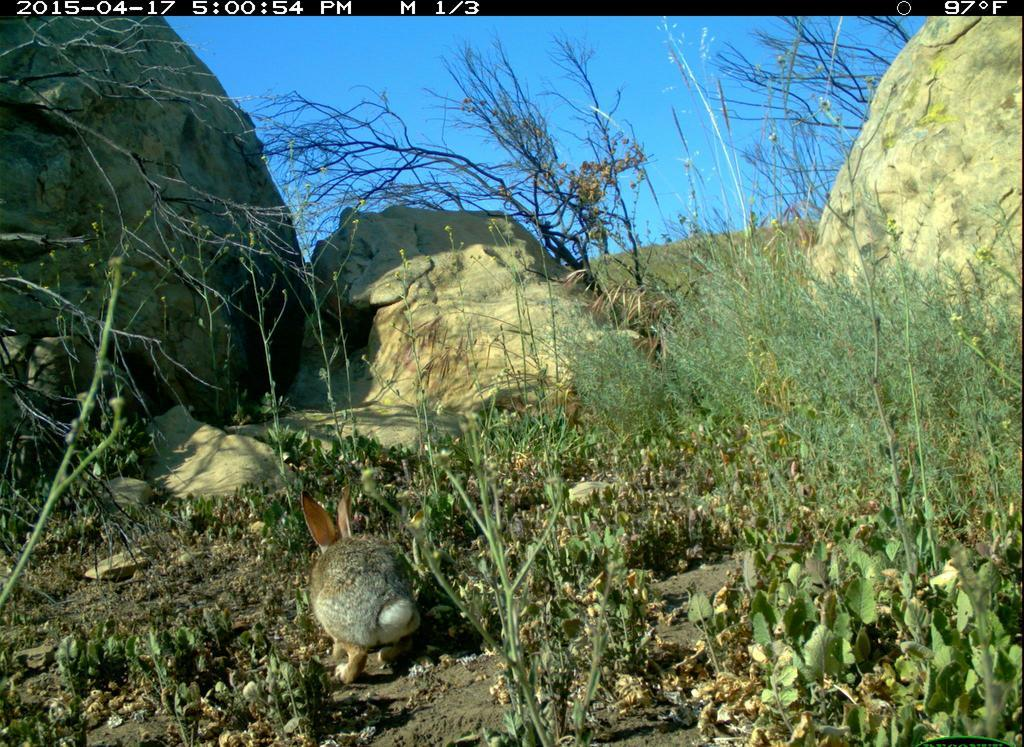rabbit: (286, 478, 440, 697)
